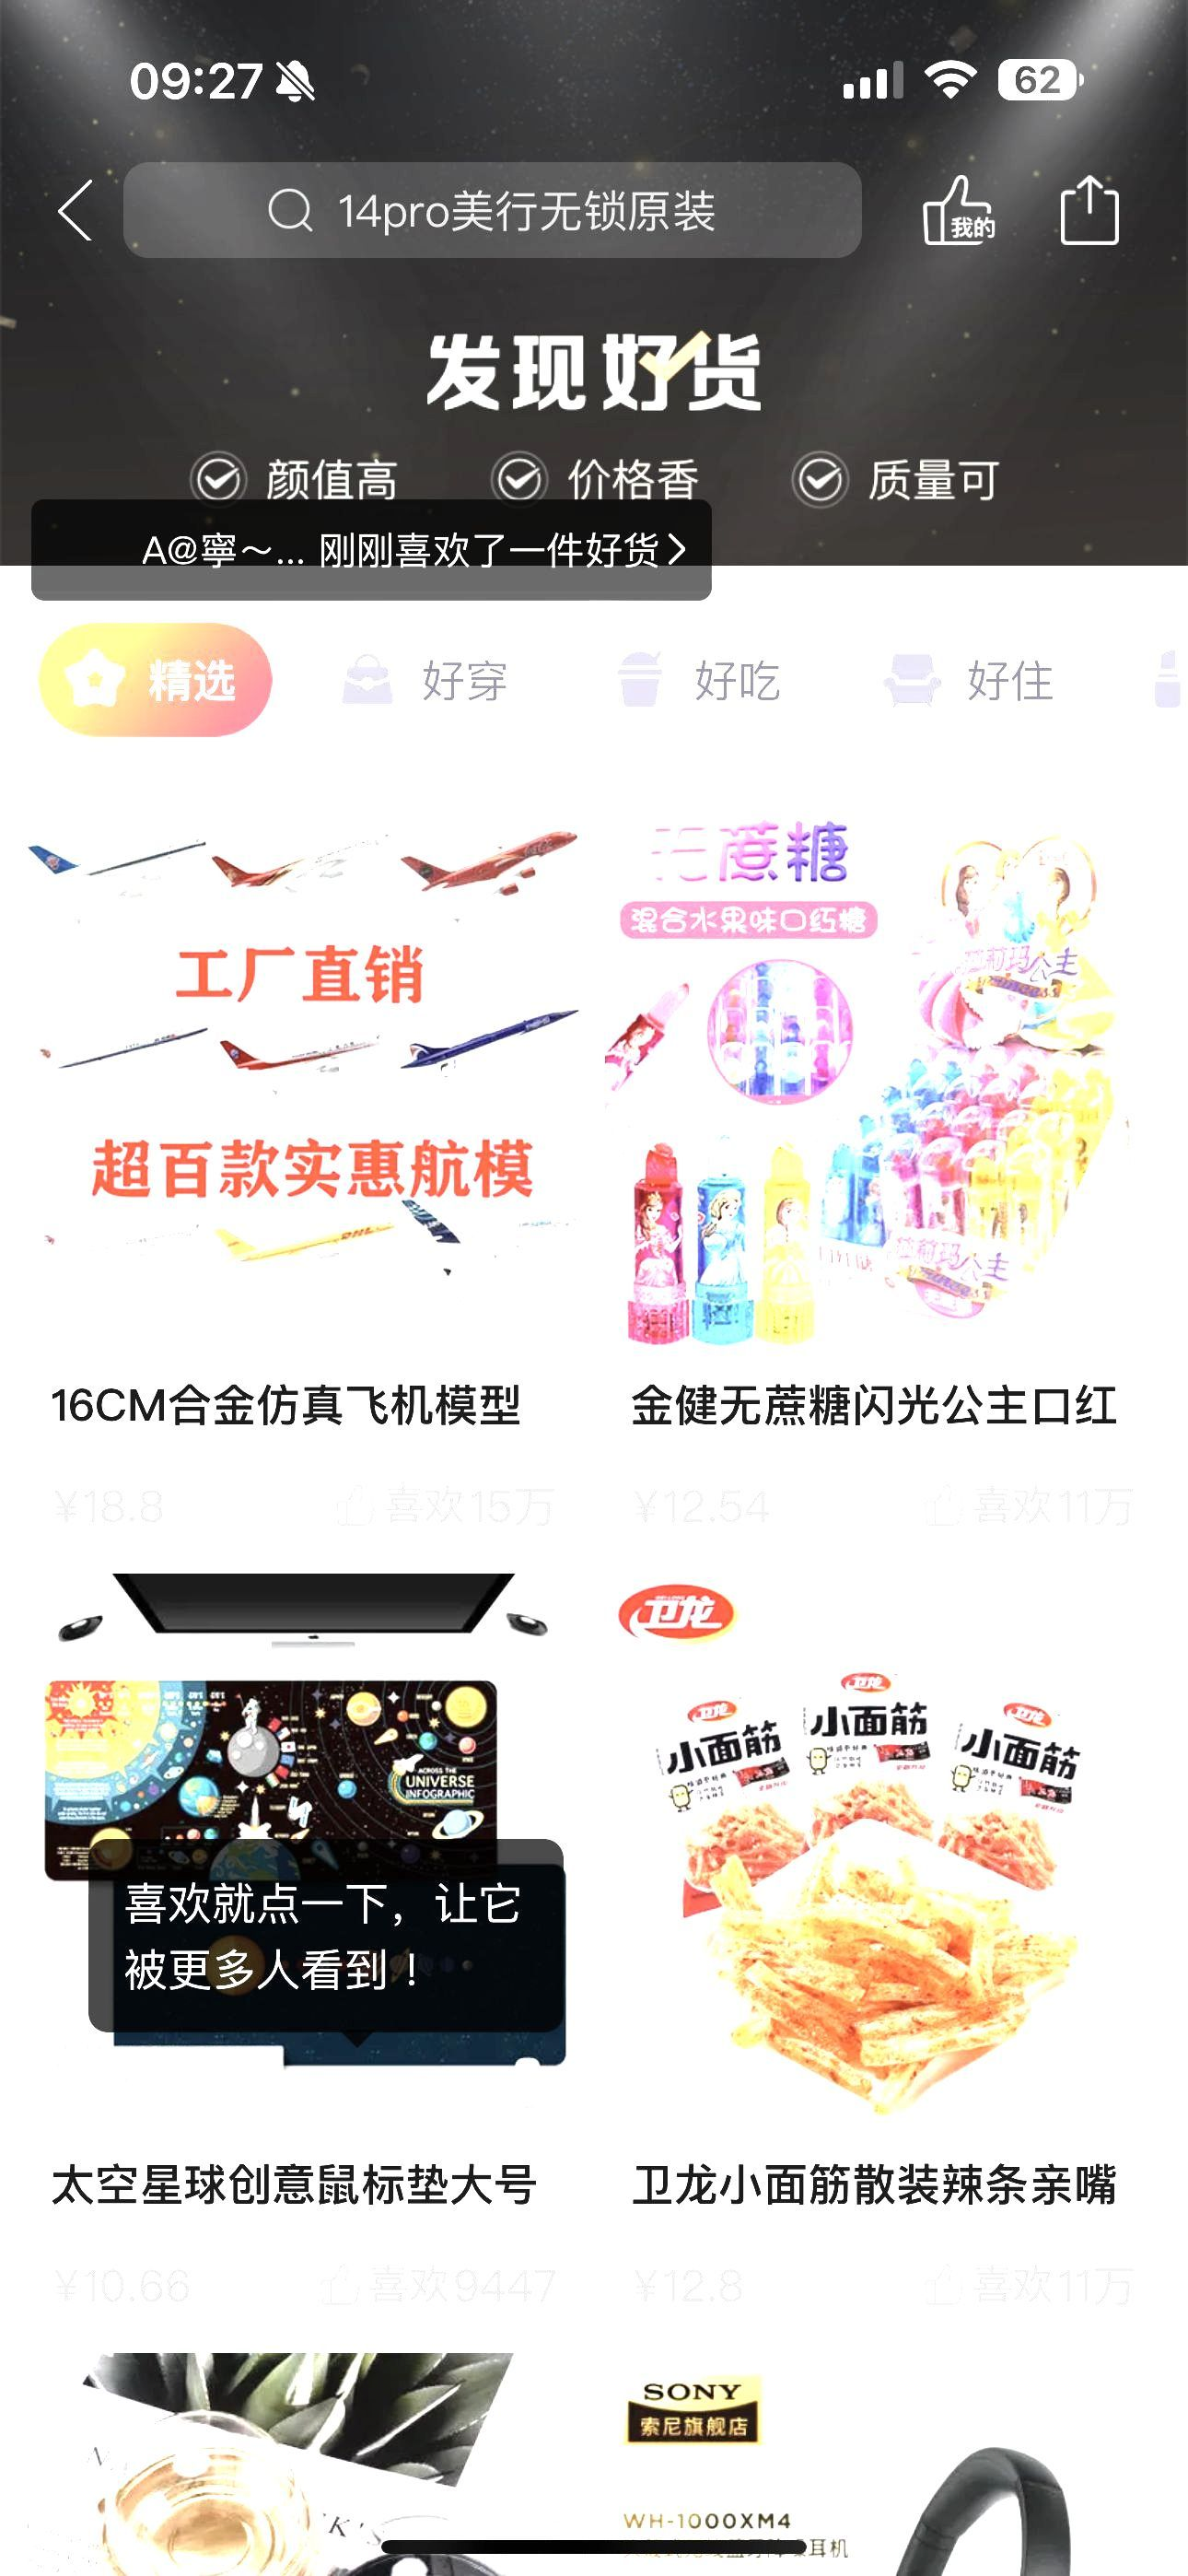item: (13, 770, 592, 1567), (606, 762, 1165, 1562), (613, 1562, 1165, 2343), (39, 1564, 585, 2338)
op_bar: (13, 131, 1183, 283)
